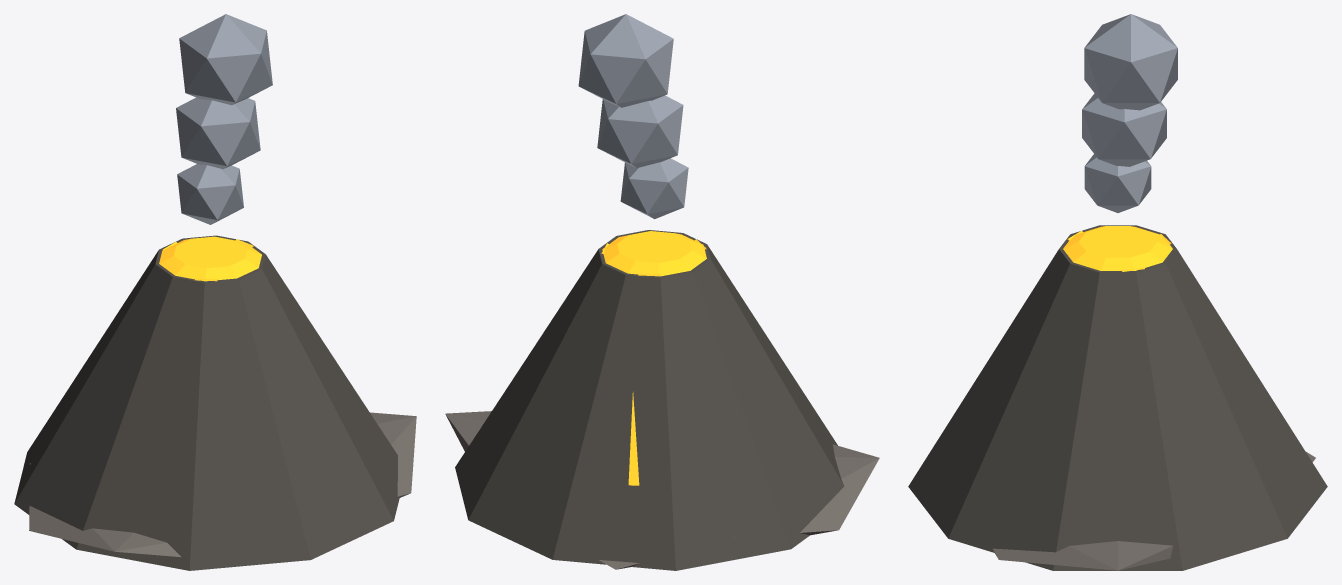
Rendered from gunung_api_v001.glb.
3 views of the same model, side by side, from view 1: azimuth 30°, elevation 25°; view 2: azimuth 150°, elevation 25°; view 3: azimuth 270°, elevation 25° (orthographic). The views are drawn at different scales.
Parts seen in each view (by area): view 1: Gunung_Api; view 2: Gunung_Api; view 3: Gunung_Api.
Part boxes in pixels (x1,y1,x2,y2): Gunung_Api: (14, 14, 416, 570); Gunung_Api: (445, 14, 879, 570); Gunung_Api: (908, 14, 1327, 570).
Bounding box in the file's own units: 3.57 × 4.07 × 3.2.
